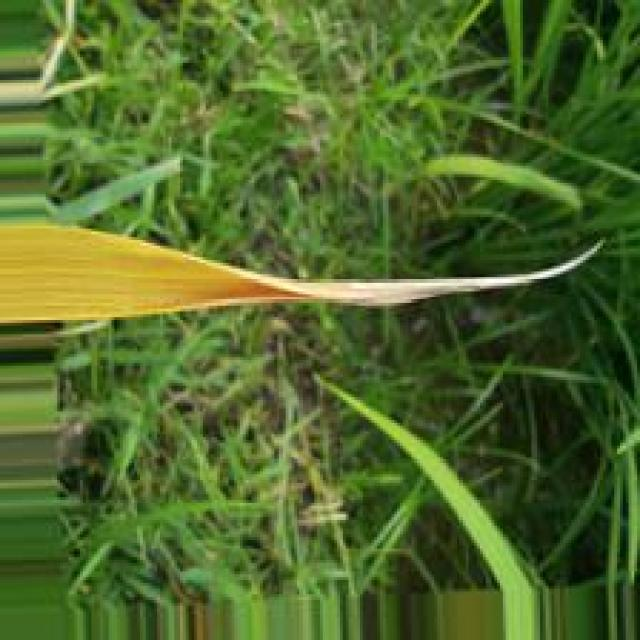Leaf_Scald: (171, 273, 403, 310)
